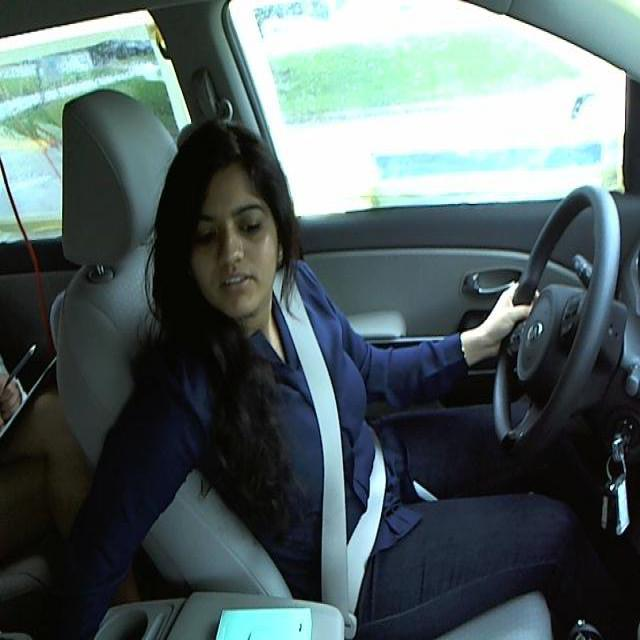seatbelt: (267, 294, 390, 610)
